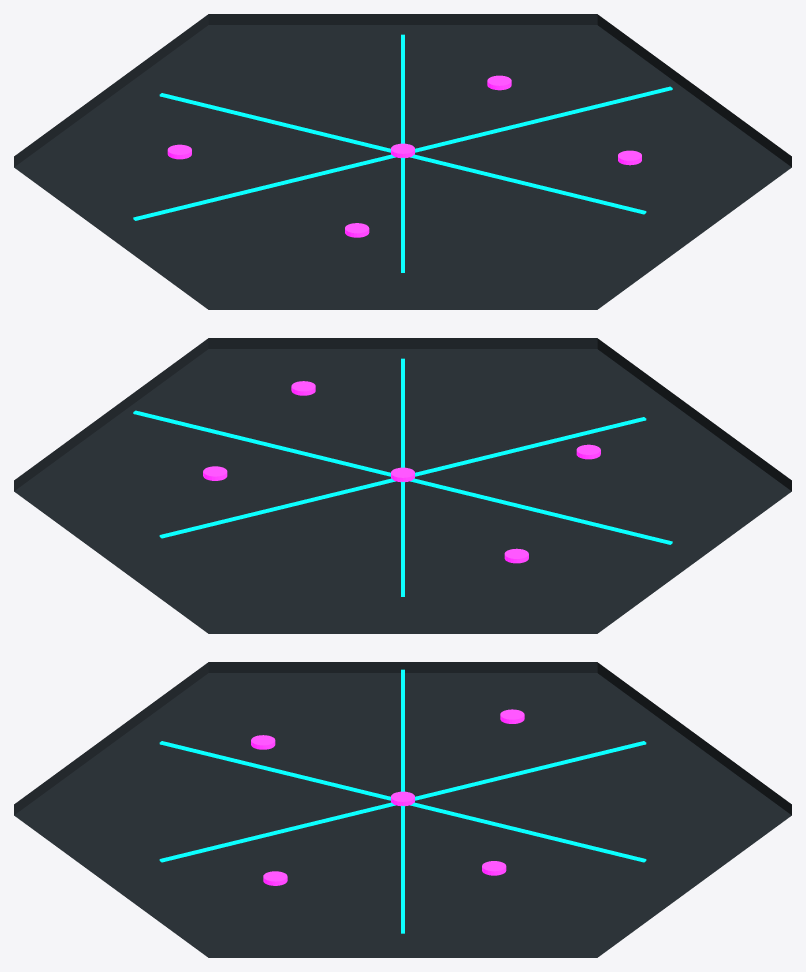
Rendered from world_ground_plate.glb.
The picture shows the model from 3 angles, top to bottom: view 1: azimuth 30°, elevation 25°; view 2: azimuth 150°, elevation 25°; view 3: azimuth 270°, elevation 25°; orthographic projection.
Parts seen in each view (by area): view 1: world_ground_plate_hex_body, world_ground_plate_route_east_west, world_ground_plate_route_southwest_northeast, world_ground_plate_route_northwest_southeast; view 2: world_ground_plate_hex_body, world_ground_plate_route_east_west, world_ground_plate_route_northwest_southeast, world_ground_plate_route_southwest_northeast; view 3: world_ground_plate_hex_body, world_ground_plate_route_northwest_southeast, world_ground_plate_route_southwest_northeast, world_ground_plate_route_east_west.
Part boxes in pixels (x1,y1,x2,y2): world_ground_plate_hex_body: (14, 14, 791, 309); world_ground_plate_route_east_west: (133, 86, 672, 220); world_ground_plate_route_southwest_northeast: (159, 93, 646, 214); world_ground_plate_route_northwest_southeast: (401, 34, 404, 272); world_ground_plate_hex_body: (14, 338, 791, 633); world_ground_plate_route_east_west: (133, 410, 672, 544); world_ground_plate_route_northwest_southeast: (159, 417, 646, 538); world_ground_plate_route_southwest_northeast: (401, 358, 404, 596); world_ground_plate_hex_body: (14, 662, 791, 957); world_ground_plate_route_northwest_southeast: (159, 741, 646, 862); world_ground_plate_route_southwest_northeast: (159, 741, 646, 862); world_ground_plate_route_east_west: (401, 669, 404, 933).
Bounding box in the file's own units: 5.54 × 0.17 × 6.4.
